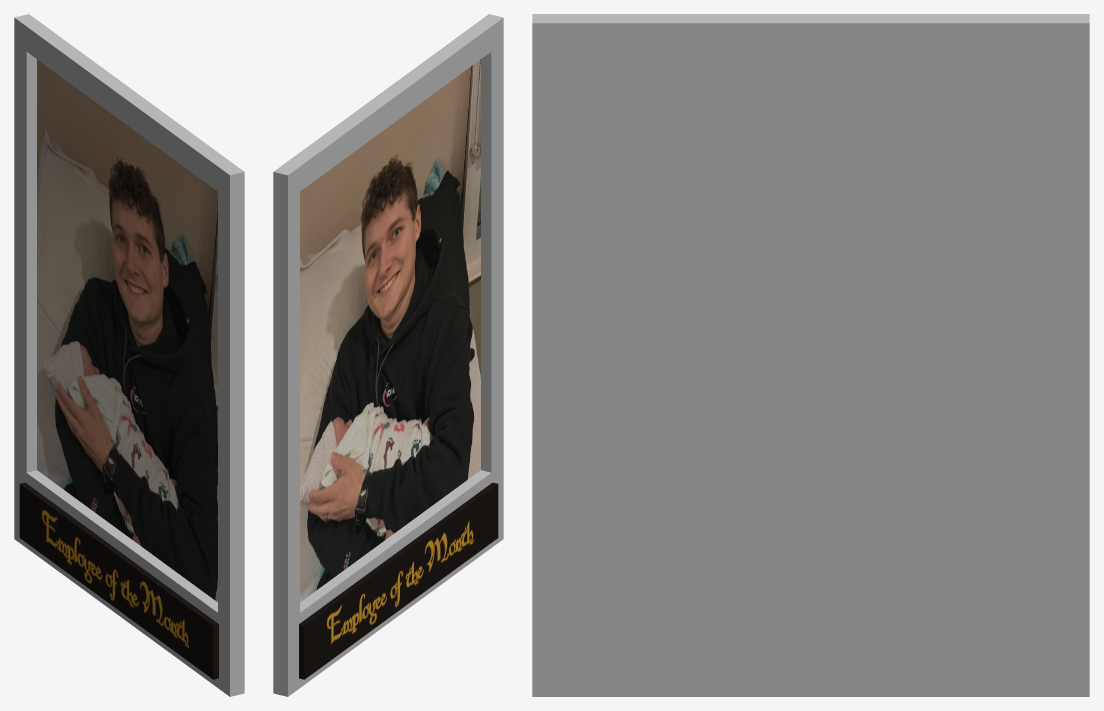
Rendered from EmployeeOfTheMonth_Frame.fbx.
3 renders of one model, left to right at view 1: azimuth 30°, elevation 25°; view 2: azimuth 150°, elevation 25°; view 3: azimuth 270°, elevation 25°, orthographic. The views are drawn at different scales.
Parts seen in each view (by area): view 1: Player Scale; view 2: Player Scale; view 3: Player Scale.
Boxes of the visible parts, x1,y1,x2,y2 form: Player Scale: [14, 14, 244, 696]; Player Scale: [273, 14, 503, 696]; Player Scale: [532, 14, 1089, 696].
Bounding box in the file's own units: 21.67 × 534 × 400.
